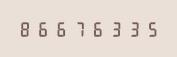eight: (17, 20, 34, 37)
five: (143, 20, 160, 37)
seven: (71, 20, 88, 37)
six: (35, 20, 52, 37), (53, 20, 70, 37), (89, 20, 106, 37)
three: (107, 20, 124, 37), (125, 20, 142, 37)
